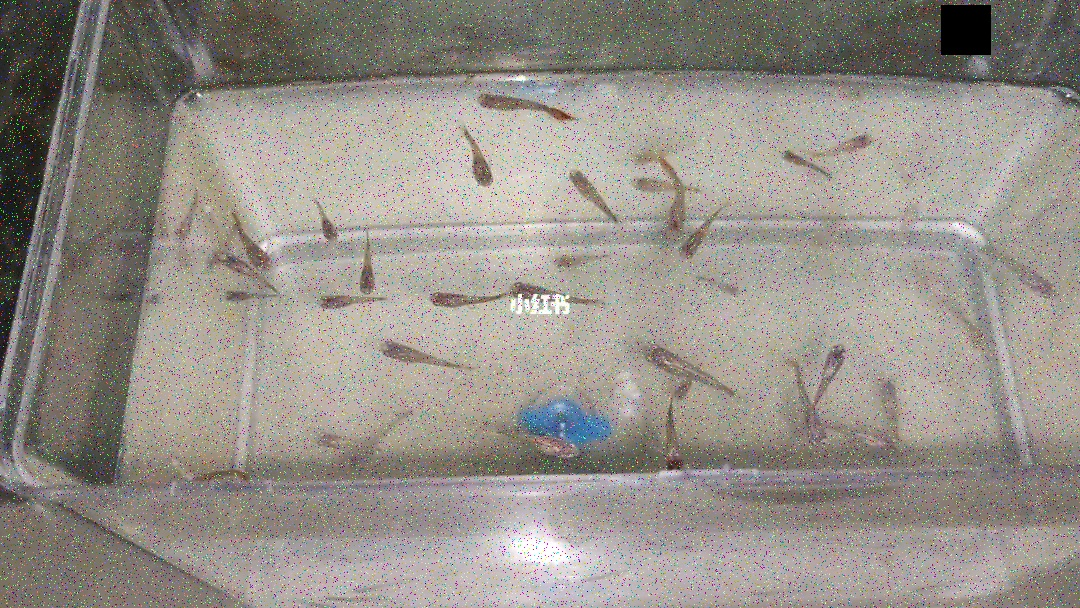fry: (991, 241, 1065, 307), (378, 330, 477, 379), (477, 83, 585, 126), (499, 417, 587, 468), (941, 296, 1005, 366), (511, 273, 614, 312), (559, 165, 620, 230), (636, 332, 715, 382), (787, 375, 835, 456), (341, 418, 404, 475), (645, 402, 695, 472), (813, 332, 857, 410), (230, 210, 290, 267), (461, 116, 502, 199), (873, 377, 915, 444), (840, 421, 912, 460), (779, 144, 841, 189), (420, 282, 503, 315), (820, 124, 879, 166), (679, 210, 722, 265), (623, 137, 699, 168), (355, 226, 386, 296), (882, 197, 926, 246), (166, 194, 204, 248), (316, 285, 384, 315), (221, 249, 266, 294), (307, 197, 345, 247), (551, 247, 621, 273), (630, 173, 709, 196), (310, 423, 370, 452), (661, 180, 691, 238), (214, 285, 272, 314), (196, 232, 235, 274), (661, 373, 706, 406), (701, 272, 752, 301)
